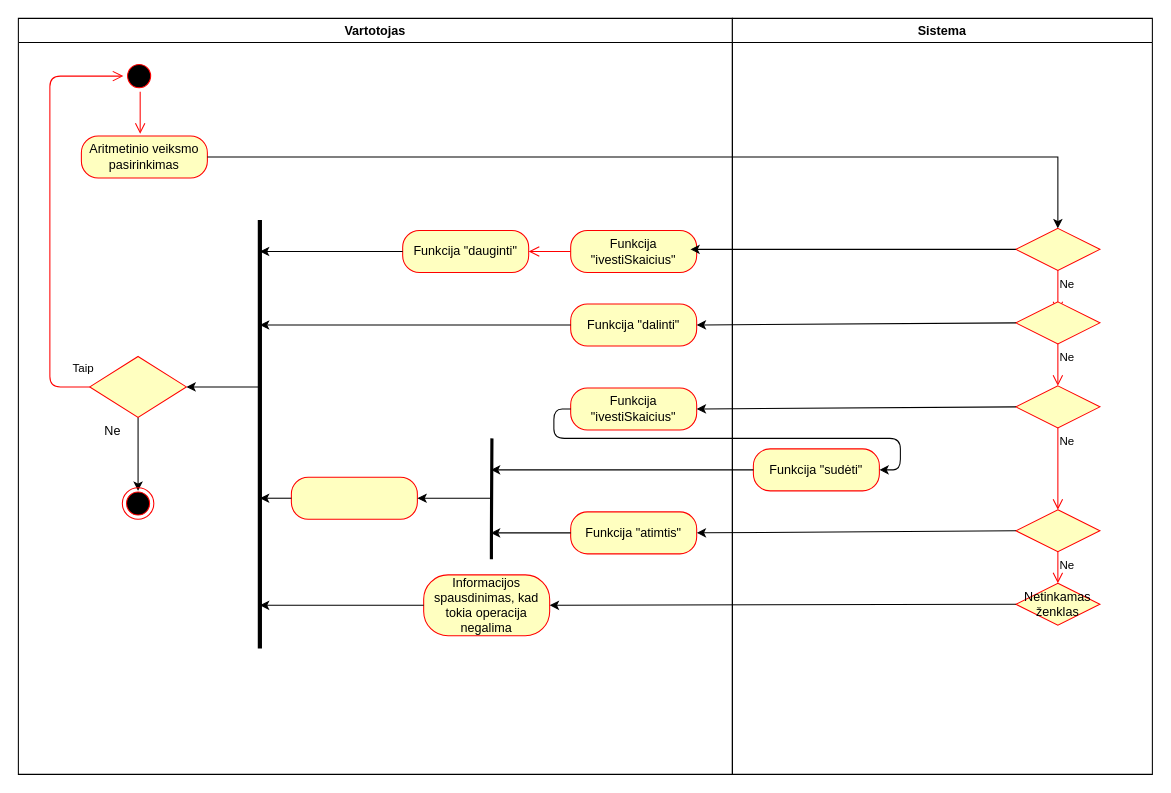
The diagram is 1171 pixels wide and 793 high, and some of its shapes have lost their labels. The centre of each missing label's shape, as x and y in pixels:
Atimtis: (x=1057, y=530)
Dalyba: (x=1057, y=322)
Daugyba: (x=1057, y=248)
Funkcija "artesti": (x=137, y=386)
Rezultato spausdinimas: (x=353, y=497)
Sudėtis: (x=1057, y=406)
